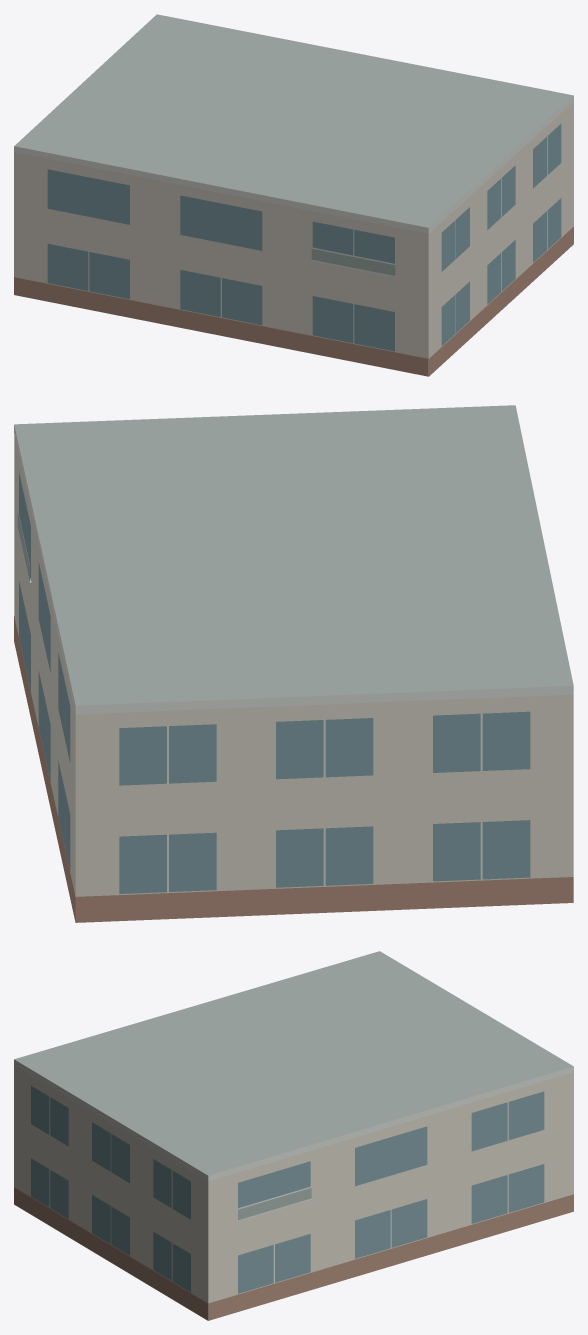
File: survey-upis-32805087.glb
3 renders of one model, top to bottom at view 1: azimuth 30°, elevation 25°; view 2: azimuth 150°, elevation 25°; view 3: azimuth 270°, elevation 25°, orthographic. The views are drawn at different scales.
Parts seen in each view (by area): view 1: survey-upis-32805087.tmp; view 2: survey-upis-32805087.tmp; view 3: survey-upis-32805087.tmp.
Boxes of the visible parts, bbox=[...] form: survey-upis-32805087.tmp: bbox=[14, 14, 573, 376]; survey-upis-32805087.tmp: bbox=[14, 405, 573, 922]; survey-upis-32805087.tmp: bbox=[14, 951, 573, 1320].
Bounding box in the file's own units: 20.25 × 6.1 × 21.32.
